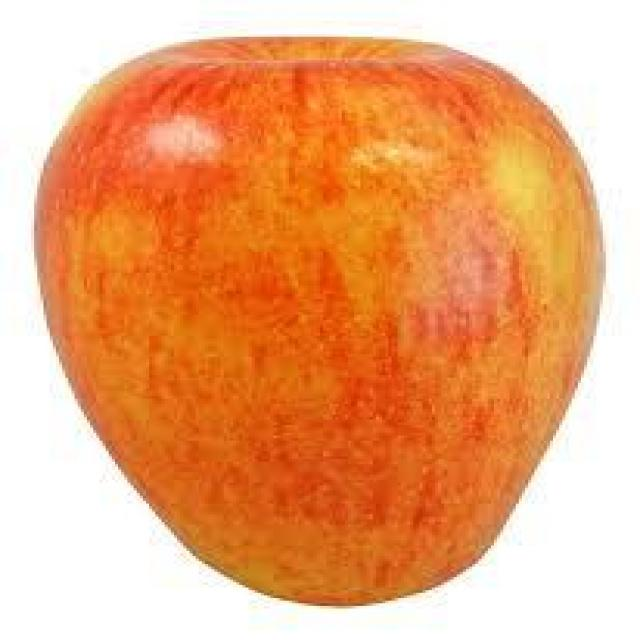Fresh Apple: (48, 44, 590, 598)
